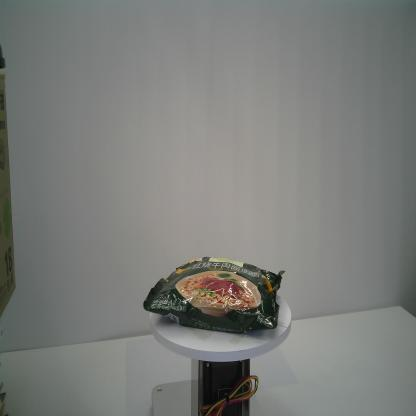Instant Noodles: (142, 255, 287, 335)
